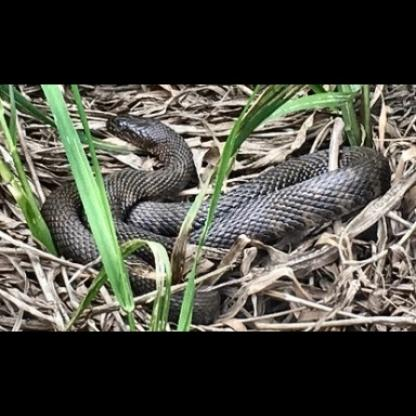Snake: (13, 94, 407, 256)
